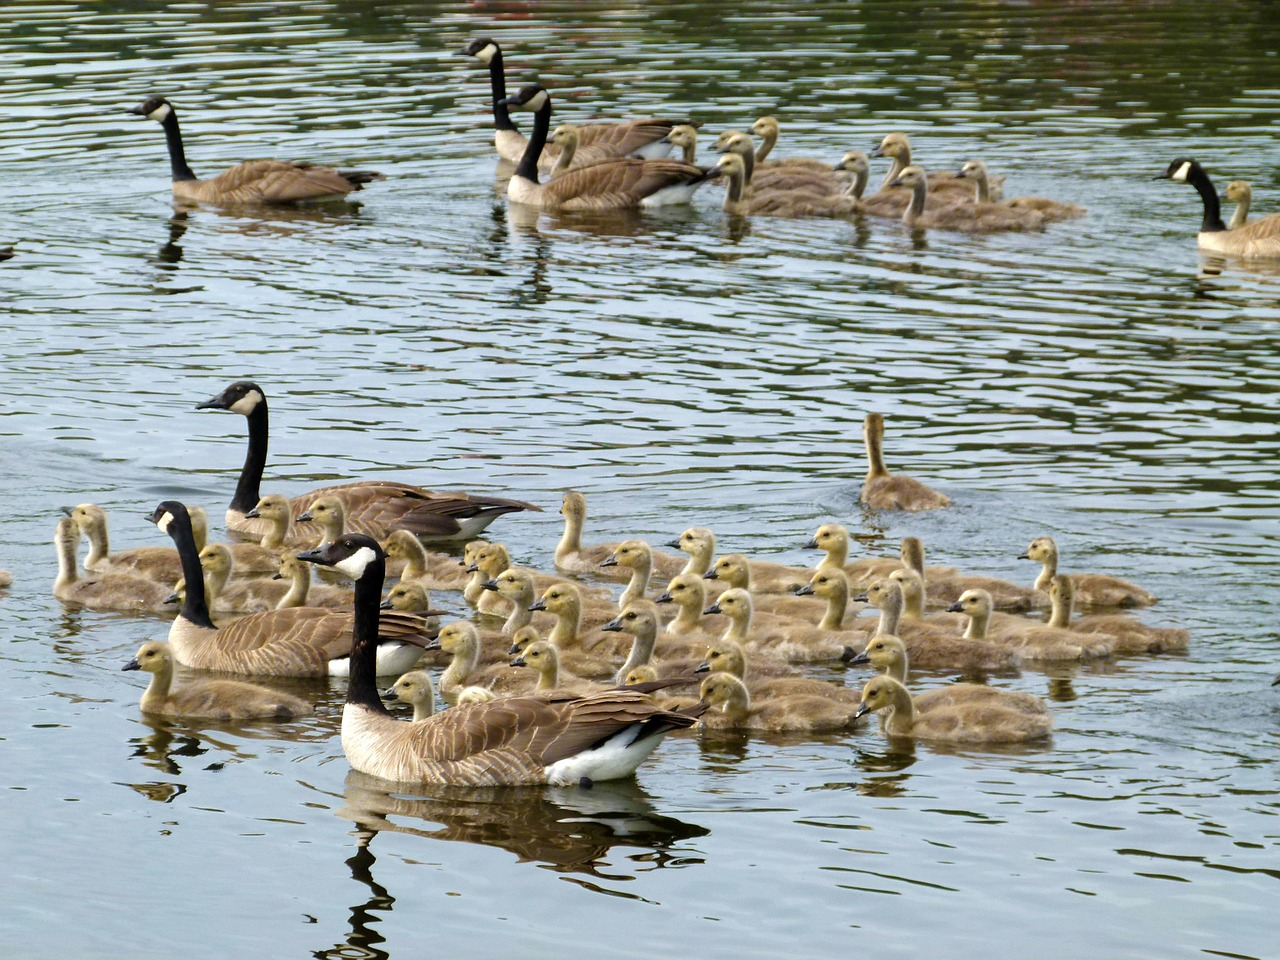goose: (289, 530, 701, 794), (183, 375, 546, 560), (139, 497, 452, 690), (122, 91, 395, 217), (453, 33, 709, 167), (492, 81, 730, 217), (1150, 153, 1280, 268)
